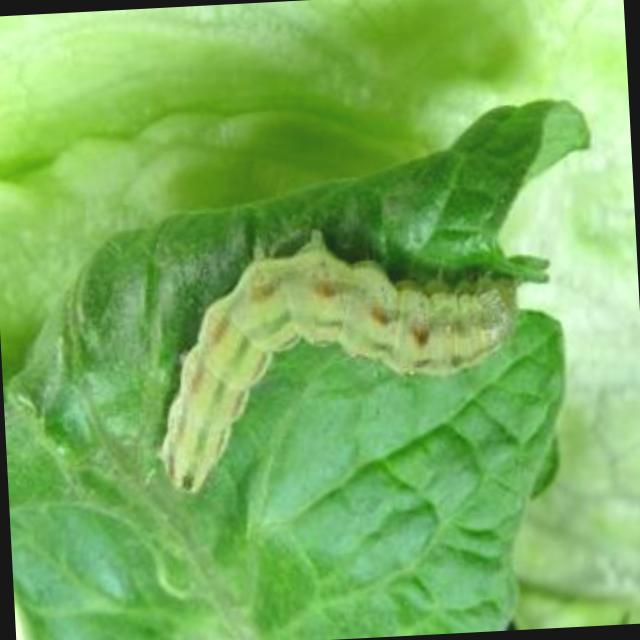Cotton bollworm: (119, 170, 552, 530)
